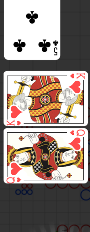4C: (52, 38, 60, 56)
9H: (69, 128, 87, 136)
